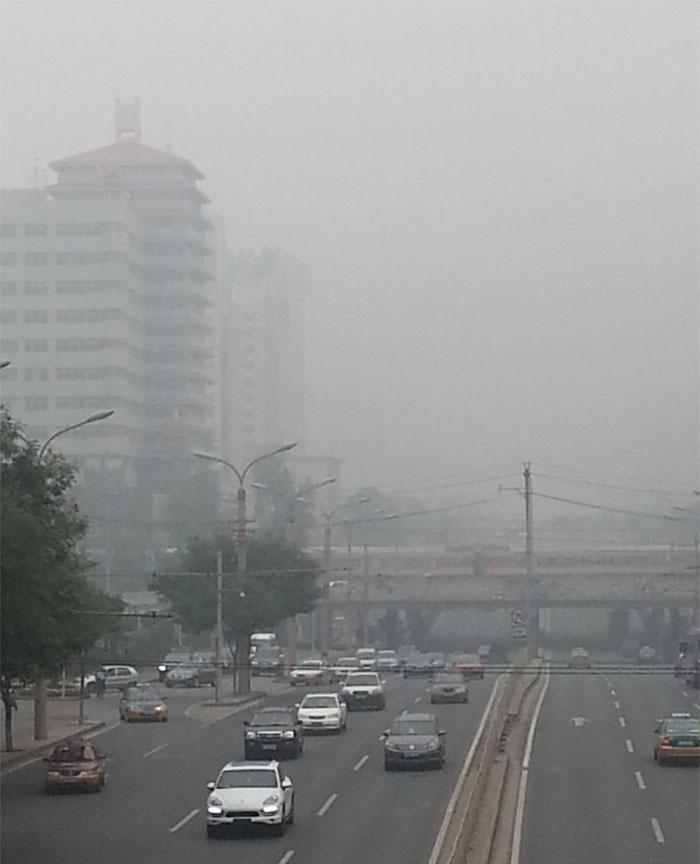car: (204, 758, 298, 833), (381, 714, 451, 774), (41, 736, 108, 795), (243, 706, 306, 756), (653, 710, 700, 768), (293, 692, 350, 734), (118, 682, 171, 724), (338, 670, 388, 711), (76, 663, 142, 692), (162, 662, 222, 691), (427, 670, 472, 707), (246, 631, 282, 668), (158, 646, 197, 680), (288, 658, 331, 688), (250, 646, 284, 679), (450, 651, 487, 678), (401, 655, 438, 680), (332, 656, 364, 684), (352, 647, 379, 675), (566, 645, 593, 672), (374, 649, 400, 671), (636, 645, 659, 668)
